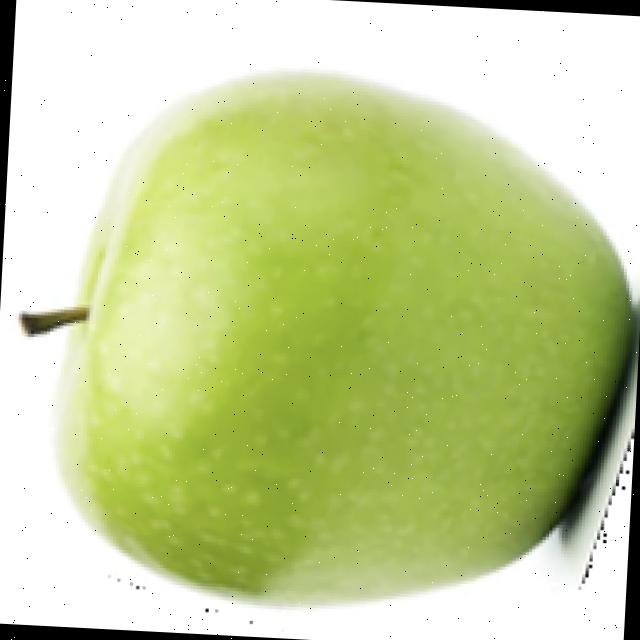apple: (12, 63, 640, 613)
